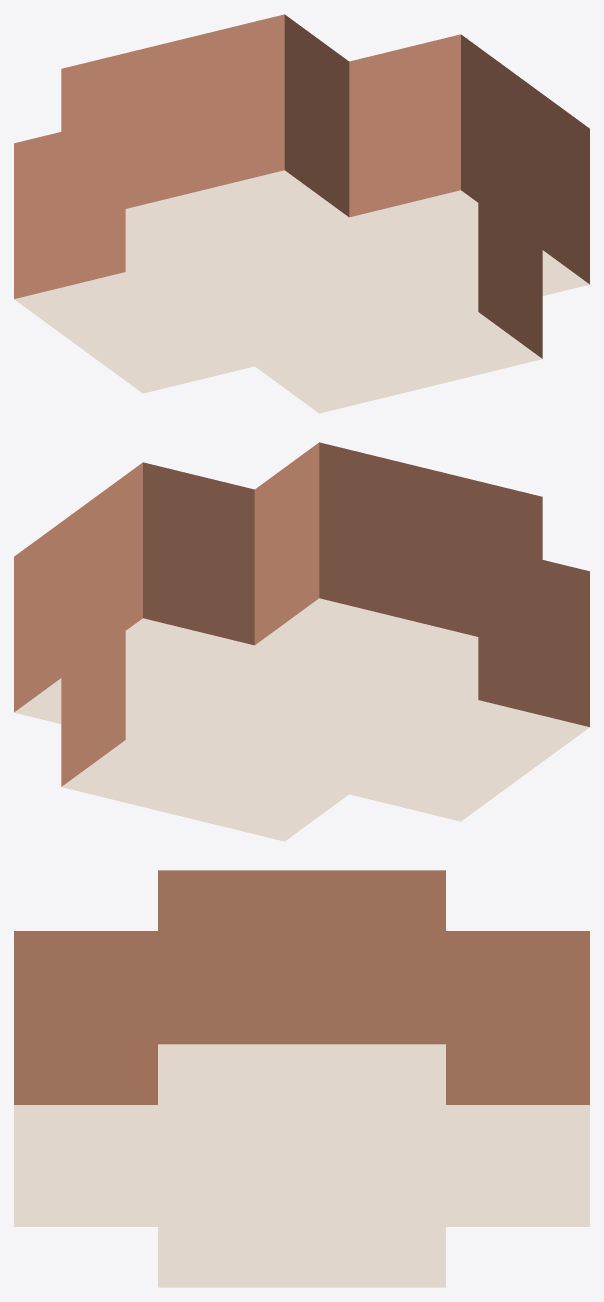
File: room.glb
The picture shows the model from 3 angles, top to bottom: view 1: azimuth 30°, elevation 25°; view 2: azimuth 150°, elevation 25°; view 3: azimuth 270°, elevation 25°; orthographic projection. The views are drawn at different scales.
Visible parts, largest first — view 1: Walls, Floor; view 2: Walls, Floor; view 3: Floor, Walls.
Part boxes in pixels (x1,y1,x2,y2): Walls: [14, 14, 589, 358]; Floor: [14, 170, 589, 413]; Walls: [14, 442, 589, 786]; Floor: [14, 598, 589, 841]; Floor: [14, 1044, 589, 1287]; Walls: [14, 870, 589, 1104].
Size of the model in its own units: 12 by 4 by 12.
